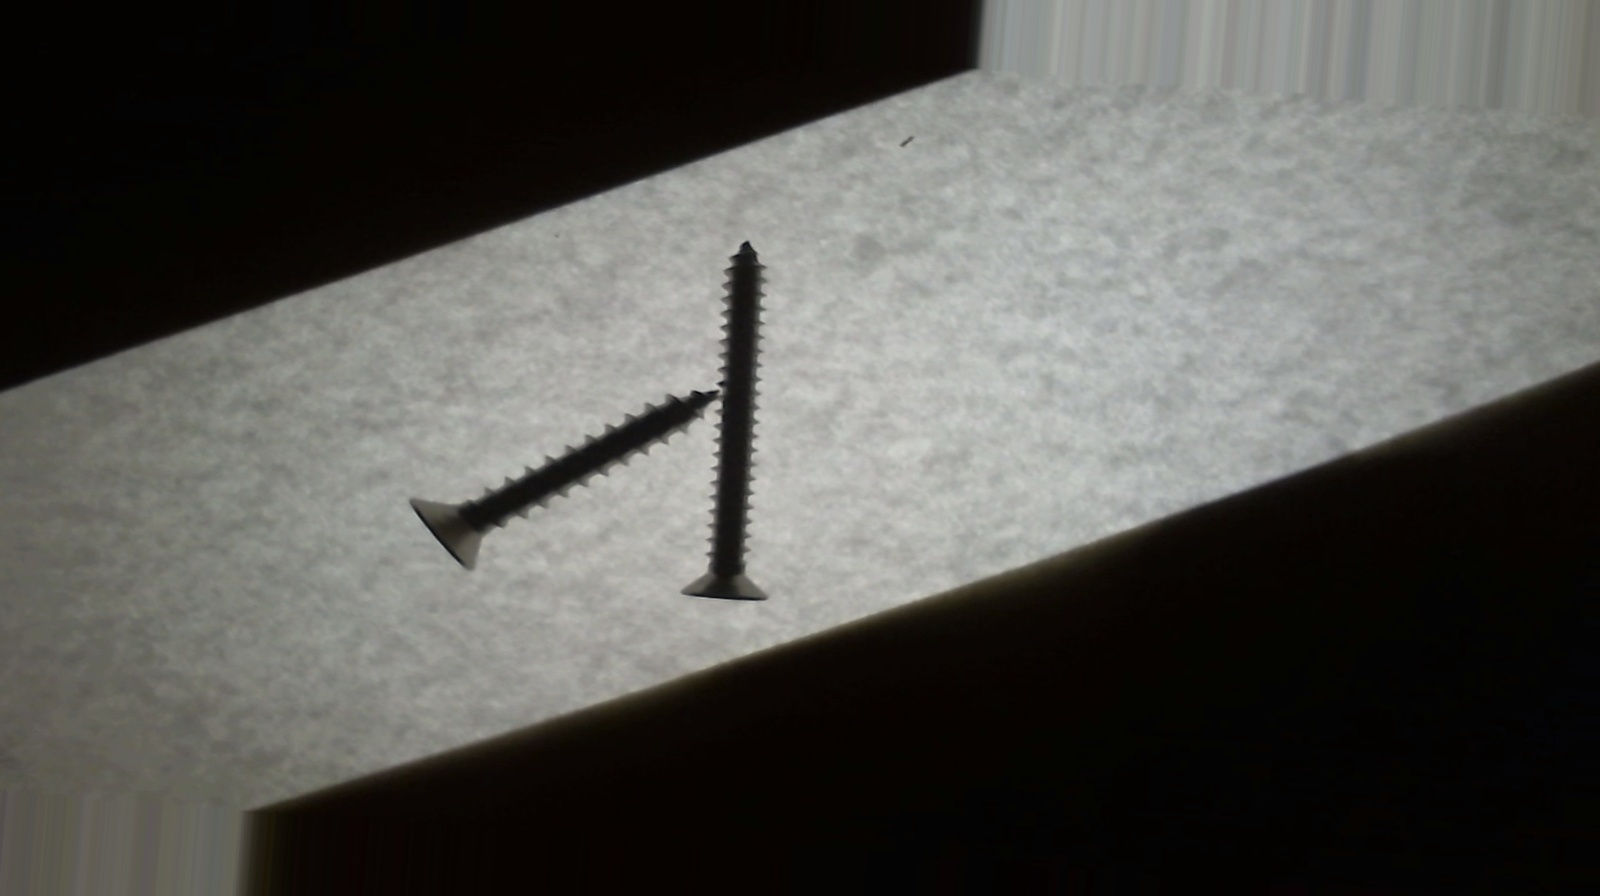S001: (395, 354, 712, 597)
S002: (668, 230, 804, 618)
